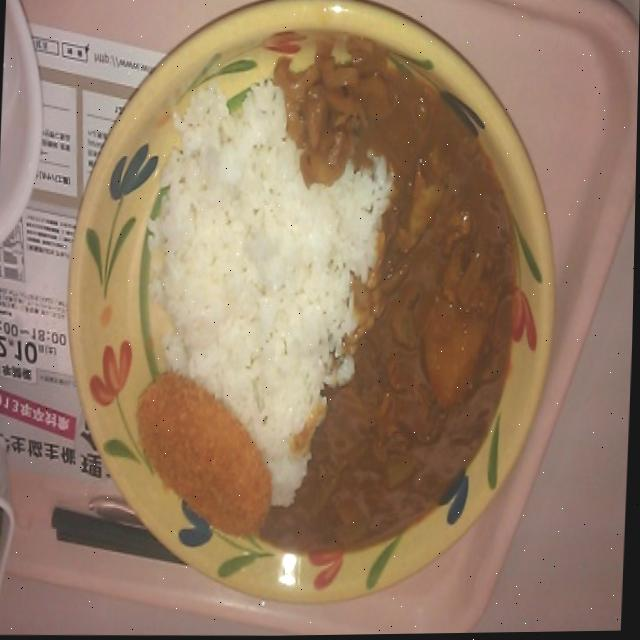炸货点心: (99, 362, 229, 537)
牛肉菜式: (89, 0, 472, 603)
